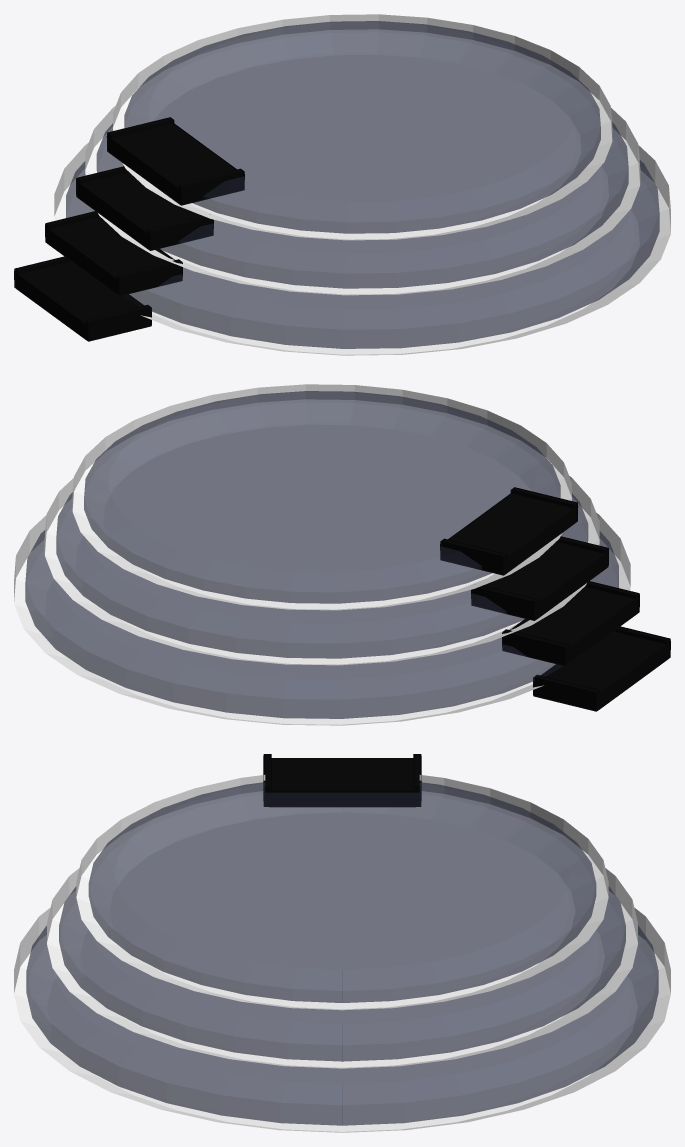
File: platform.glb
3 renders of one model, top to bottom at view 1: azimuth 30°, elevation 25°; view 2: azimuth 150°, elevation 25°; view 3: azimuth 270°, elevation 25°, orthographic. The views are drawn at different scales.
Parts seen in each view (by area): view 1: Cylinder, Cube; view 2: Cylinder, Cube; view 3: Cylinder, Cube.
Part boxes in pixels (left/top/right/bottom): Cylinder: left=54, top=14, right=670, bottom=355; Cube: left=14, top=117, right=244, bottom=341; Cylinder: left=14, top=384, right=630, bottom=725; Cube: left=440, top=487, right=670, bottom=711; Cylinder: left=14, top=775, right=670, bottom=1132; Cube: left=263, top=754, right=421, bottom=807.
Bounding box in the file's own units: 2.16 × 0.4725 × 2.
